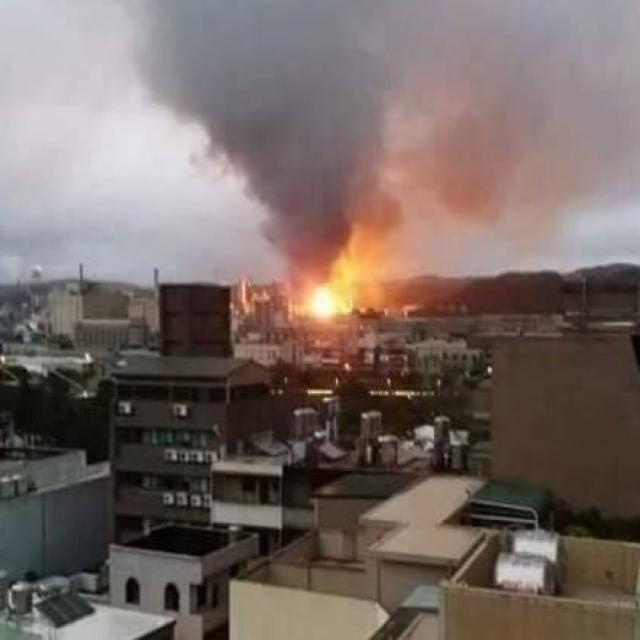Fire: (300, 284, 353, 326)
Smoke: (145, 11, 629, 244)
